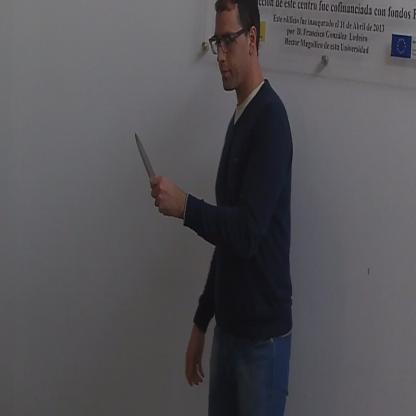knife: (131, 124, 166, 214)
